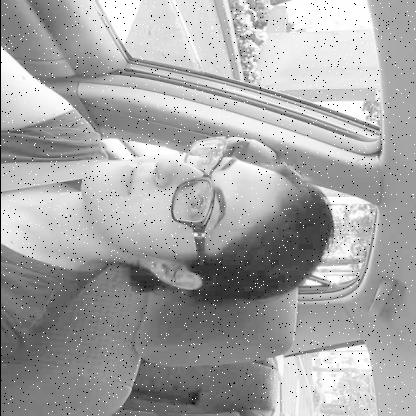seatbelt: (0, 132, 330, 300)
